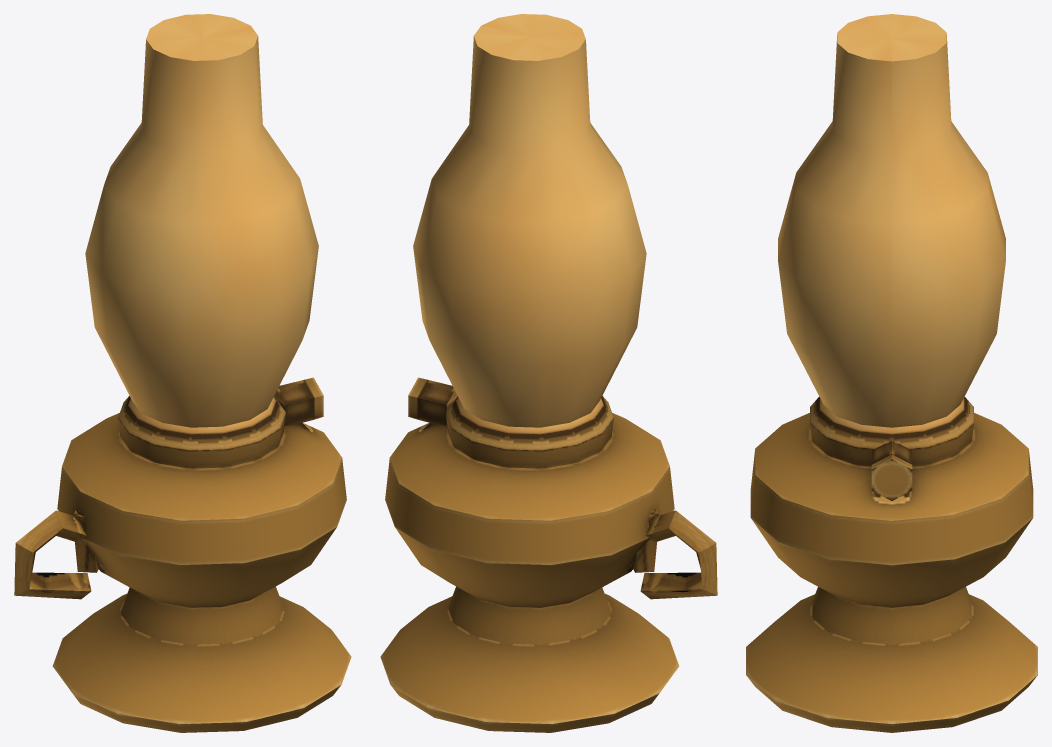
Rendered from Oil_Lamp_01.fbx.
The picture shows the model from 3 angles, left to right: view 1: azimuth 30°, elevation 25°; view 2: azimuth 150°, elevation 25°; view 3: azimuth 270°, elevation 25°; orthographic projection.
Visible parts, largest first — view 1: Oil_Lamp_01; view 2: Oil_Lamp_01; view 3: Oil_Lamp_01.
Boxes of the visible parts, bbox=[...] form: Oil_Lamp_01: bbox=[14, 14, 351, 732]; Oil_Lamp_01: bbox=[380, 14, 717, 732]; Oil_Lamp_01: bbox=[746, 14, 1037, 732].
Size of the model in its own units: 0.1566 by 0.3 by 0.1248.
1 material, 1 textured.
